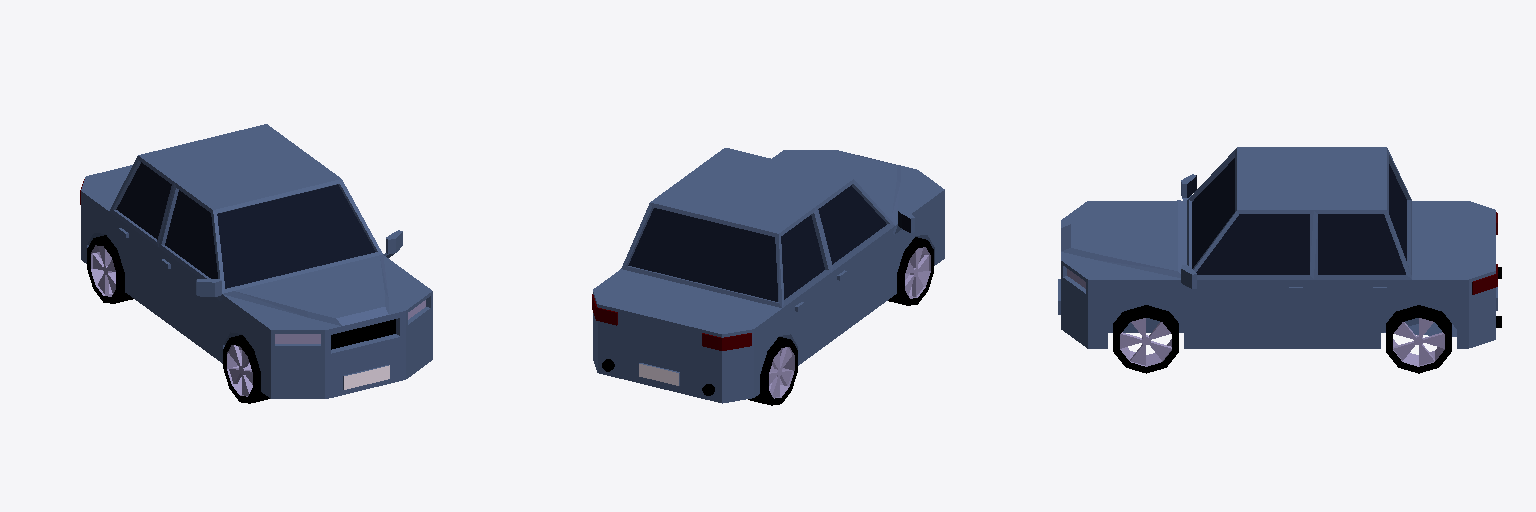
The model's file is sedan.obj.
3 renders of one model, left to right at view 1: azimuth 30°, elevation 25°; view 2: azimuth 150°, elevation 25°; view 3: azimuth 270°, elevation 25°, orthographic.
Visible parts, largest first — view 1: Sedan; view 2: Sedan; view 3: Sedan.
Part boxes in pixels (x1,y1,x2,y2): Sedan: (80,124,432,403); Sedan: (592,148,944,405); Sedan: (1058,147,1501,373).
Size of the model in its own units: 2.81 by 2.01 by 5.23.